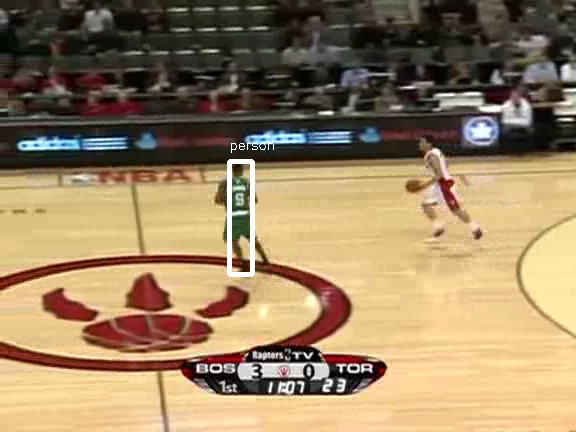person: (222, 168, 256, 249), (221, 168, 255, 249), (223, 168, 257, 249), (222, 167, 256, 248), (222, 169, 256, 250)
target_negative: (17, 115, 344, 413), (502, 157, 561, 332), (277, 404, 505, 427), (262, 242, 441, 271), (513, 352, 569, 376), (473, 127, 504, 162)
